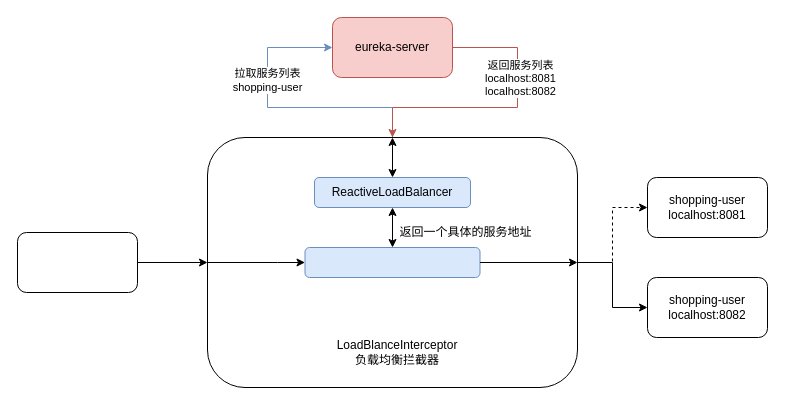
The diagram is 785 pixels wide and 405 high, and some of its shapes have lost their labels. Each missing label, with the box of its shape:
BlockingLoadBalancerClient: (304, 246, 480, 278)
shopping-order: (16, 232, 138, 292)
